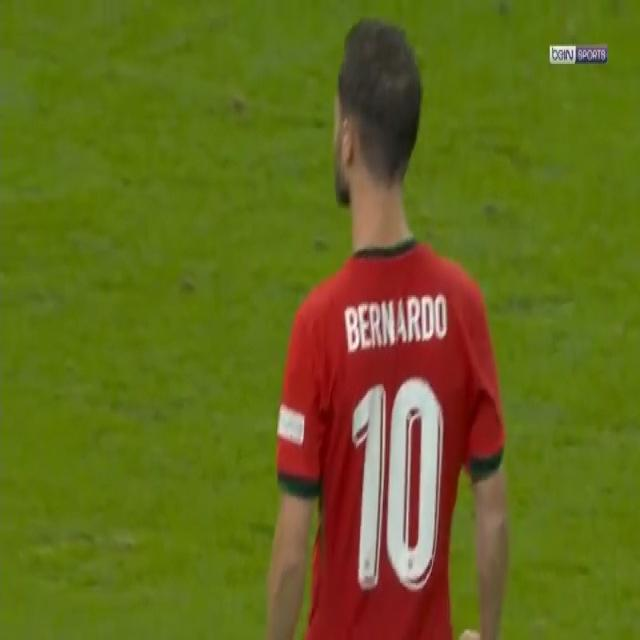joueur: (272, 98, 509, 617)
